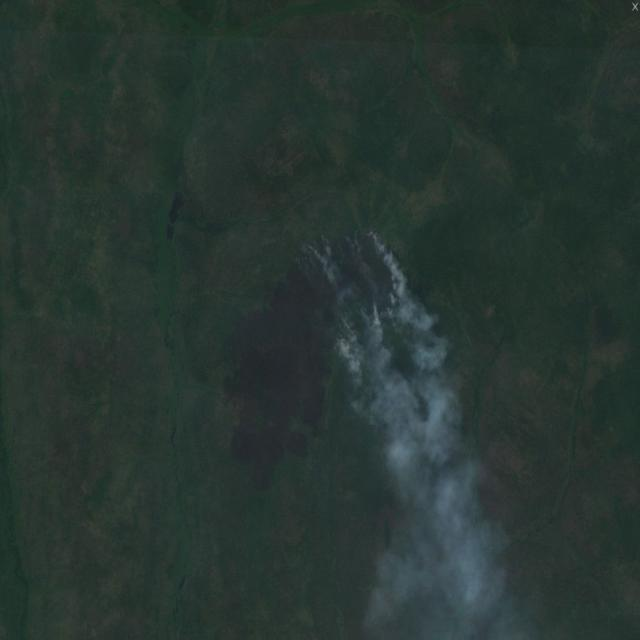fire: (365, 227, 415, 319), (325, 305, 377, 366), (300, 228, 347, 279)
